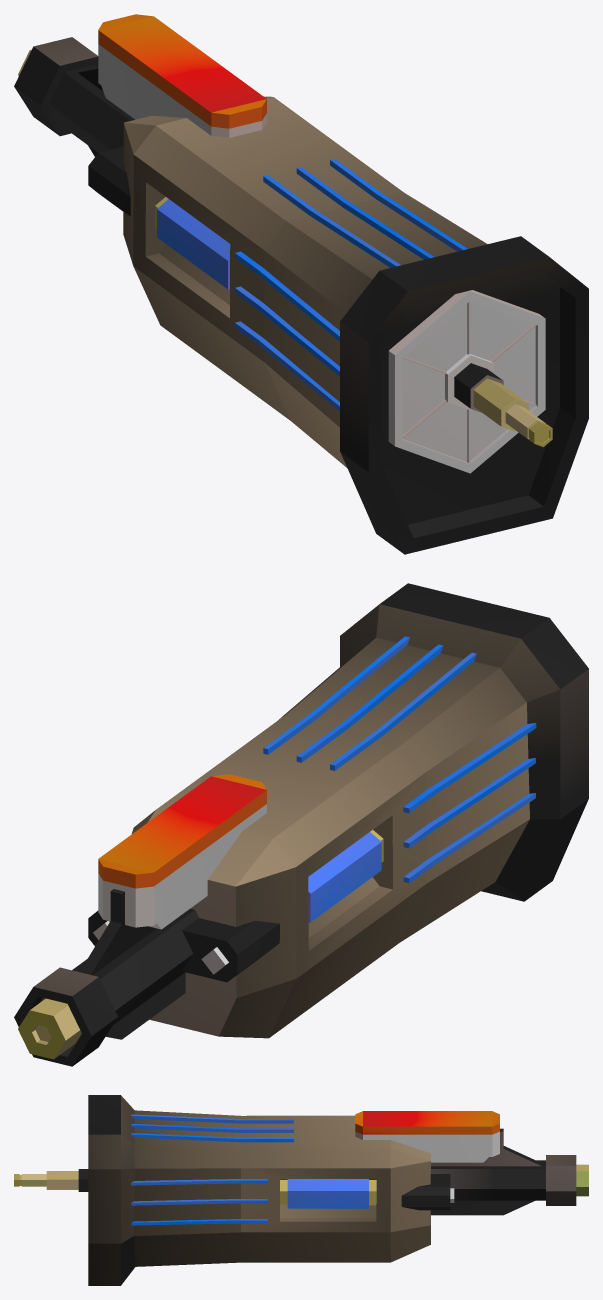
Rendered from GearboxLvl5.fbx.
The picture shows the model from 3 angles, top to bottom: view 1: azimuth 30°, elevation 25°; view 2: azimuth 150°, elevation 25°; view 3: azimuth 270°, elevation 25°; orthographic projection. The views are drawn at different scales.
Parts seen in each view (by area): view 1: gearbox_lvl5; view 2: gearbox_lvl5; view 3: gearbox_lvl5.
Boxes of the visible parts, left/top/right/bottom form: gearbox_lvl5: left=14, top=14, right=588, bottom=554; gearbox_lvl5: left=14, top=583, right=588, bottom=1066; gearbox_lvl5: left=14, top=1095, right=588, bottom=1285.
Bounding box in the file's own units: 0.5945 × 0.6764 × 2.35.
